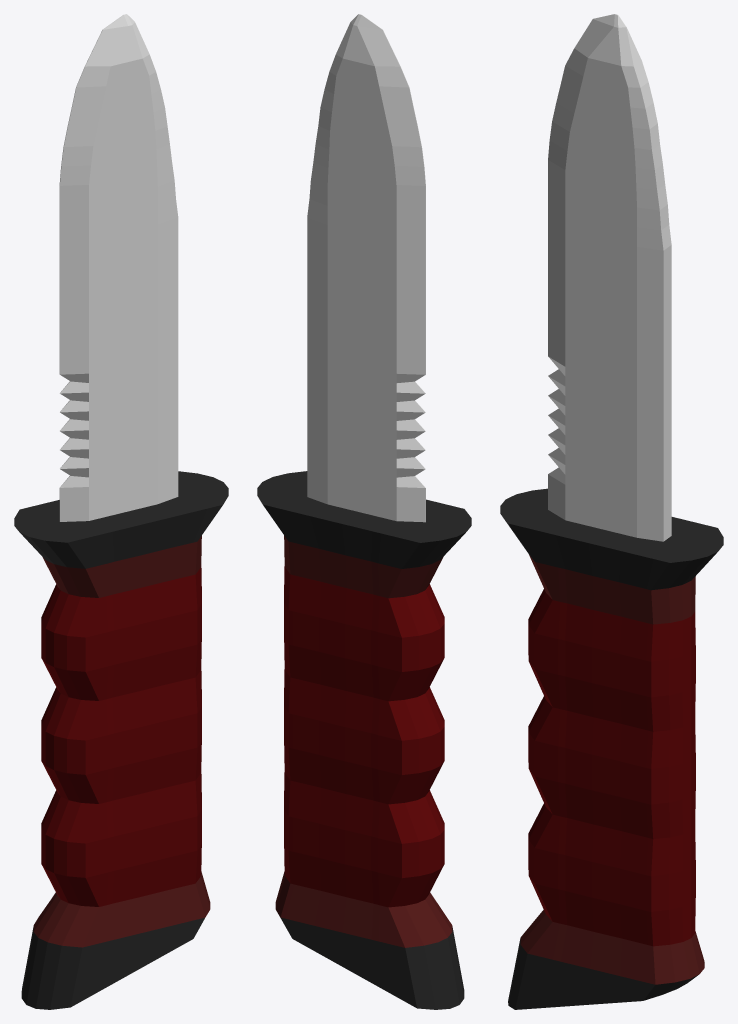
The model's file is Knife.fbx.
The picture shows the model from 3 angles, left to right: view 1: azimuth 30°, elevation 25°; view 2: azimuth 150°, elevation 25°; view 3: azimuth 330°, elevation 25°; orthographic projection. The views are drawn at different scales.
Parts seen in each view (by area): view 1: Handle, Blade; view 2: Handle, Blade; view 3: Handle, Blade.
Boxes of the visible parts, x1,y1,x2,y2 form: Handle: [14, 471, 228, 1009]; Blade: [59, 14, 178, 521]; Handle: [257, 471, 471, 1009]; Blade: [307, 14, 425, 522]; Handle: [500, 488, 723, 1009]; Blade: [548, 14, 671, 541].
Bounding box in the file's own units: 94.42 × 427 × 36.81.
